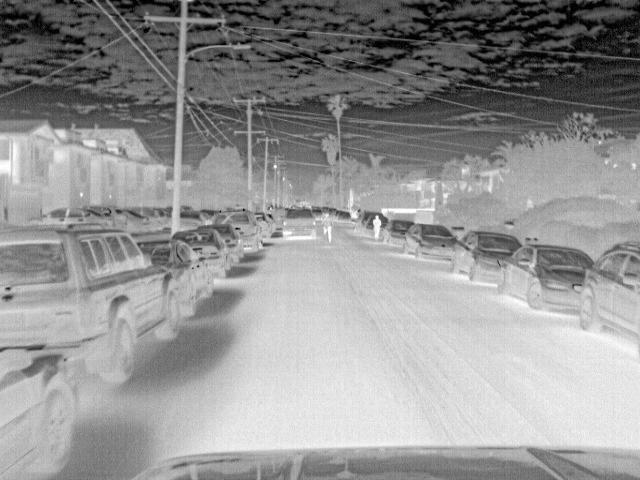car: (1, 226, 182, 383), (2, 343, 78, 475), (576, 243, 640, 352), (496, 242, 593, 313), (137, 240, 214, 317), (456, 231, 526, 282), (177, 233, 230, 279), (214, 210, 262, 250), (405, 223, 454, 259), (27, 206, 114, 226), (206, 226, 242, 266), (382, 218, 421, 250), (283, 207, 317, 238), (85, 204, 129, 227), (117, 208, 150, 233), (180, 209, 214, 226), (356, 210, 383, 230), (254, 212, 272, 238), (364, 216, 380, 234), (338, 209, 354, 222)
person: (320, 212, 333, 242), (372, 215, 384, 241)
